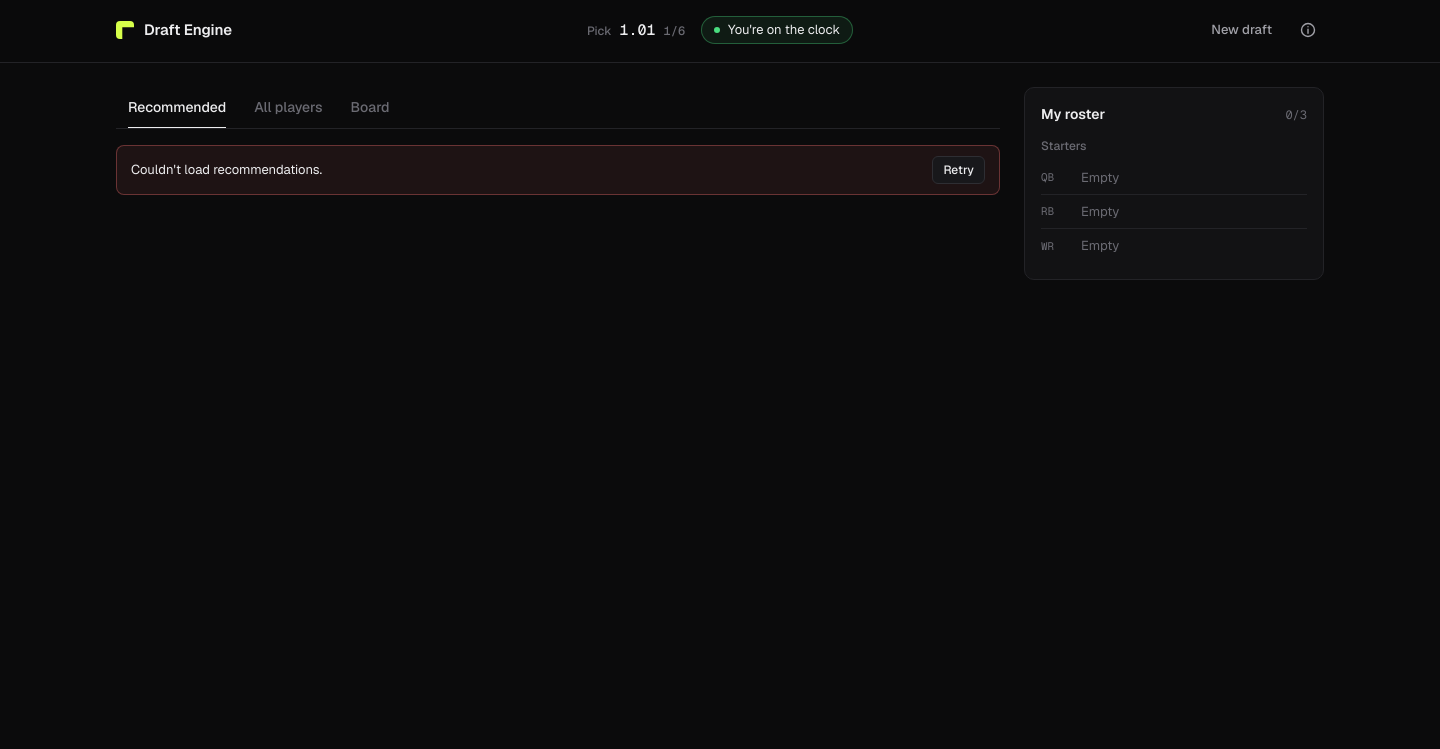
Scenario: failed recommendations show a retry instead of loading forever
Expected: the message shows "Couldn't load recommendations", [131,161,322,178]
Click the button "Retry": coordinates (959, 170) [932,156,985,184]
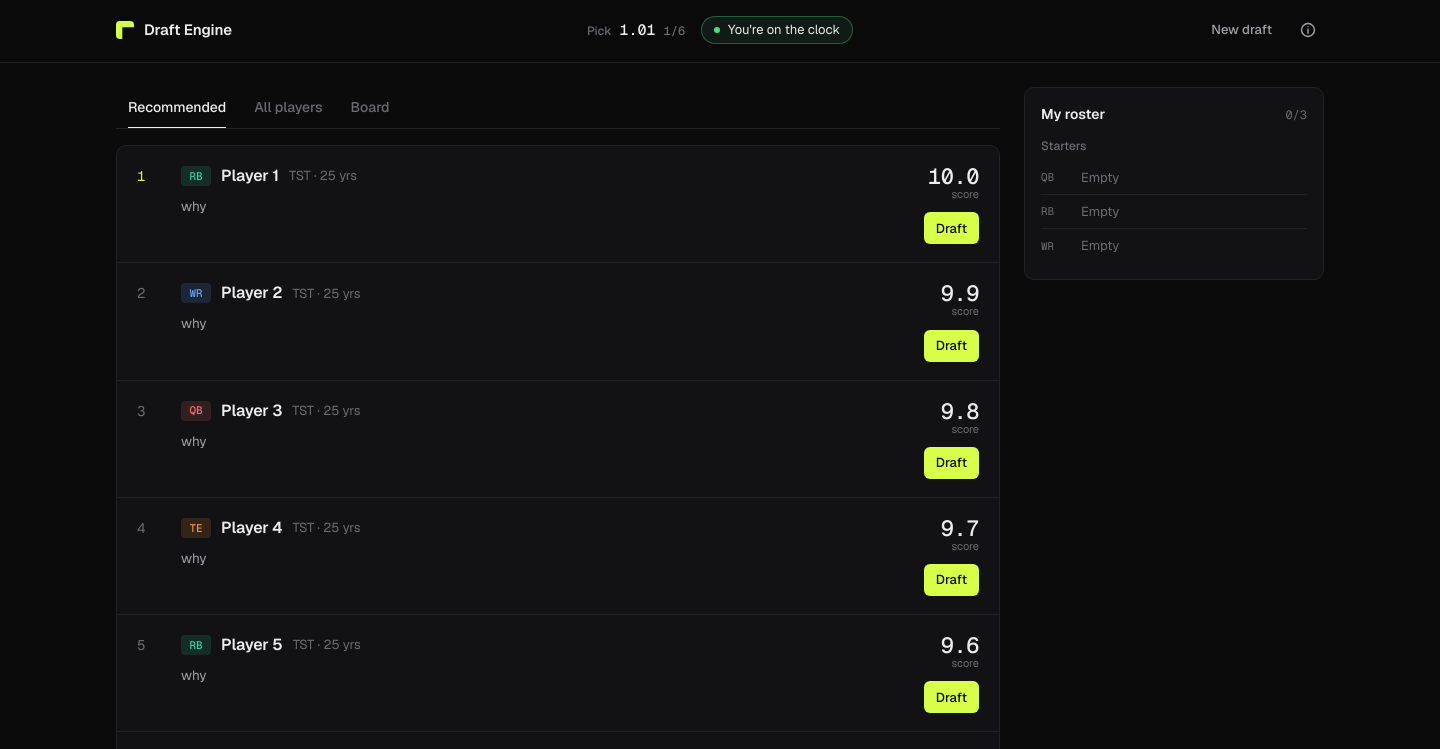
Now the message "Couldn't load recommendations. Retry" is gone
